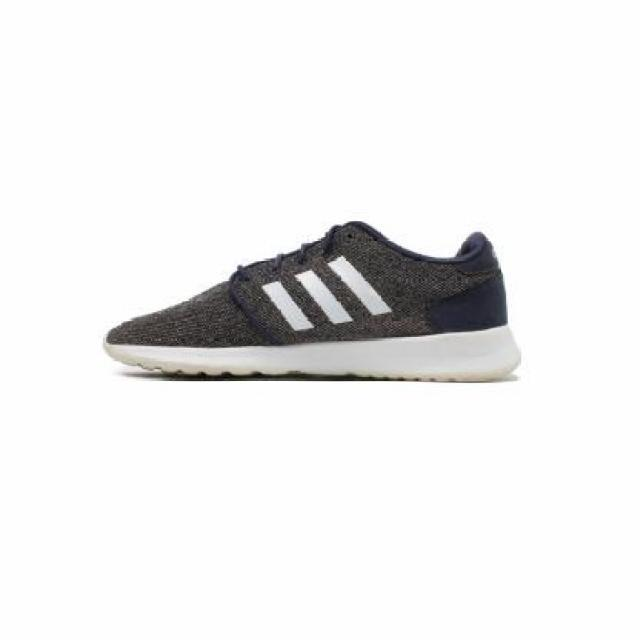Adidas: (254, 249, 404, 332)
